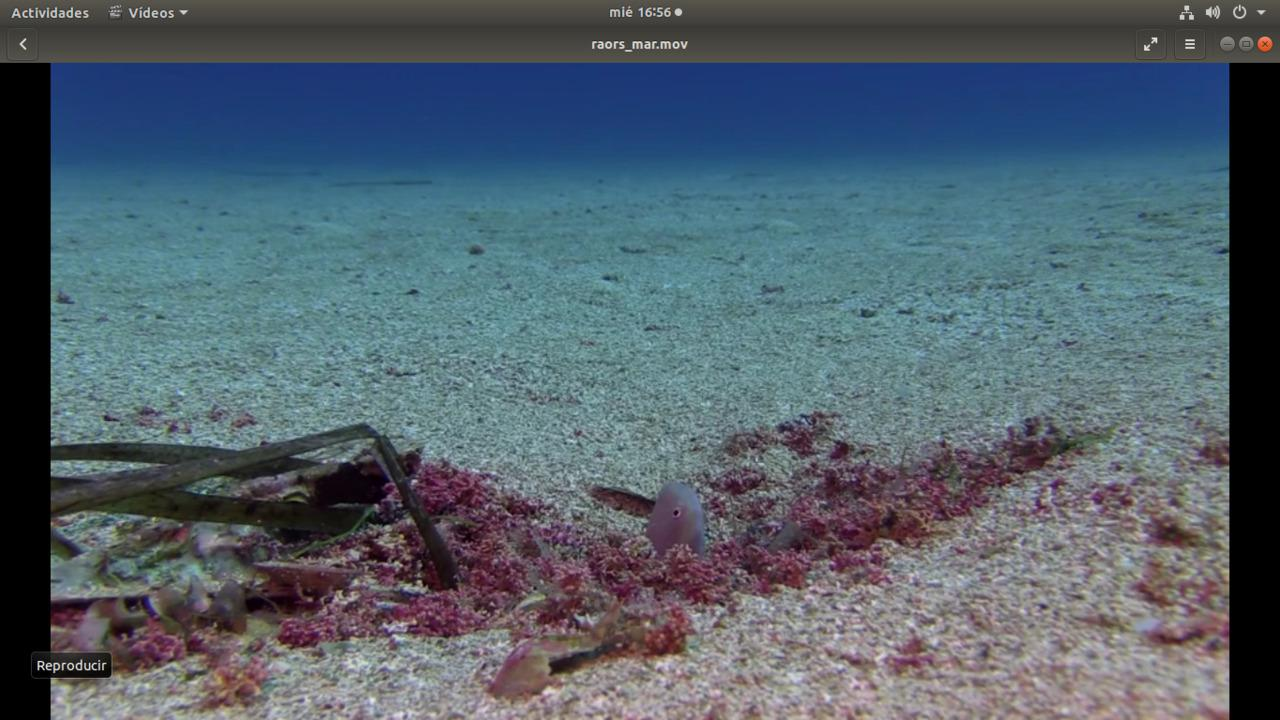raor: (634, 474, 713, 564)
